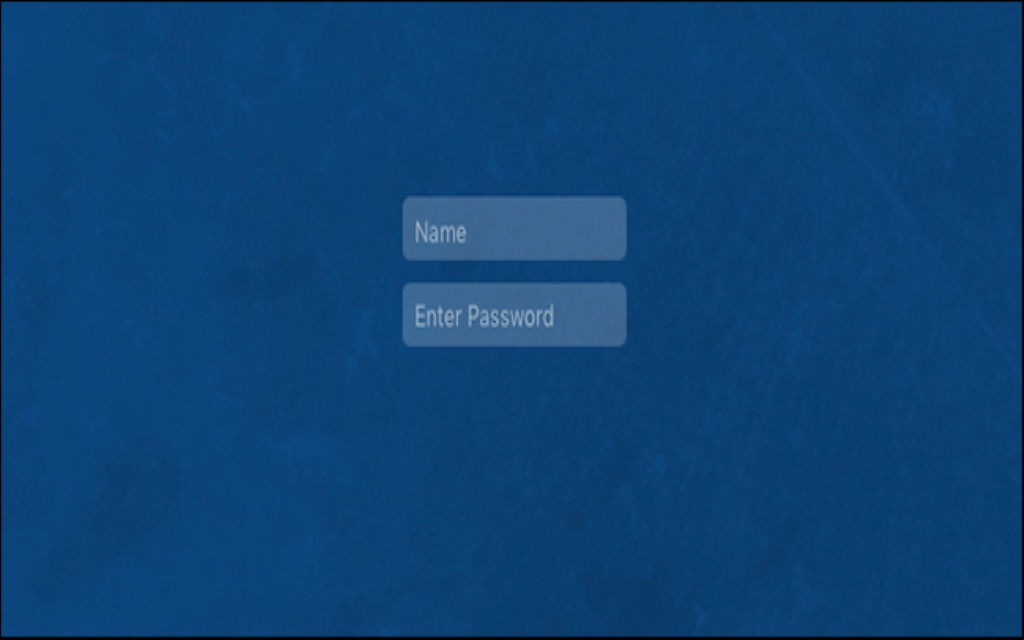label_Password: (410, 301, 556, 330)
label_name: (412, 217, 470, 246)
textbox: (401, 193, 628, 258), (403, 282, 627, 345)
